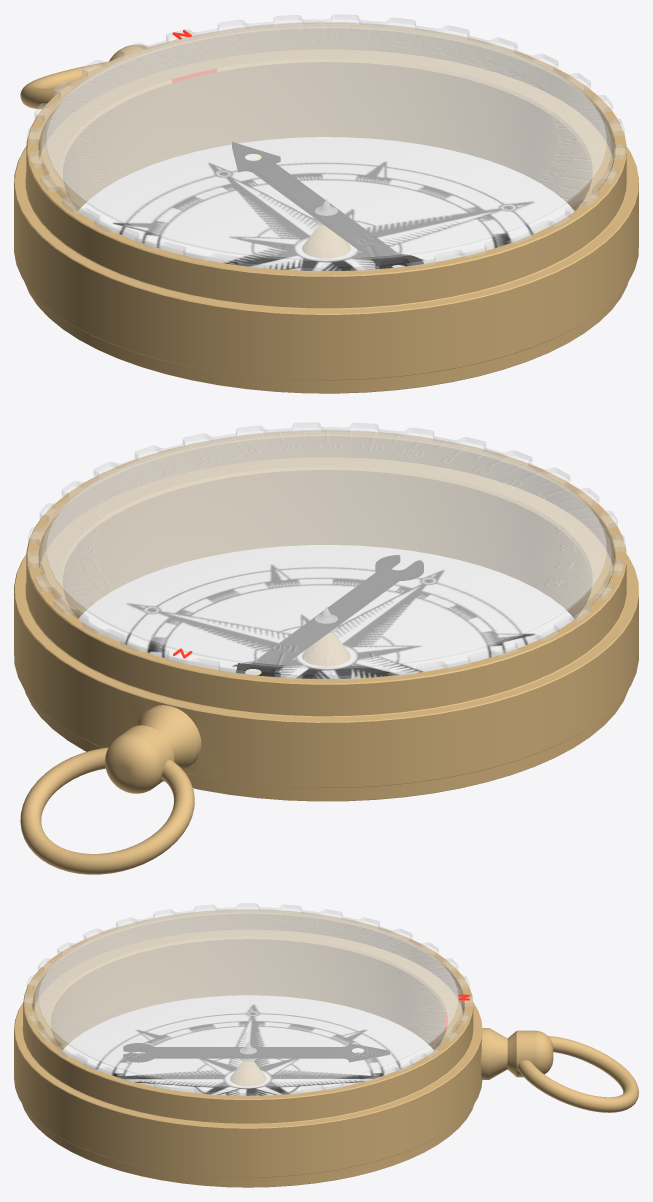
File: compass.glb
The picture shows the model from 3 angles, top to bottom: view 1: azimuth 30°, elevation 25°; view 2: azimuth 150°, elevation 25°; view 3: azimuth 270°, elevation 25°; orthographic projection. The views are drawn at different scales.
Parts seen in each view (by area): view 1: compass housing_1, rotating cylinder_3, needle_4, ring_2; view 2: compass housing_1, rotating cylinder_3, ring_2, needle_4; view 3: compass housing_1, rotating cylinder_3, ring_2, needle_4.
Part boxes in pixels (x1,y1,x2,y2): compass housing_1: (14, 23, 638, 393); rotating cylinder_3: (27, 14, 625, 272); needle_4: (232, 142, 423, 268); ring_2: (20, 62, 107, 109); compass housing_1: (14, 430, 638, 801); rotating cylinder_3: (27, 422, 625, 680); ring_2: (20, 747, 194, 874); needle_4: (236, 555, 423, 676); compass housing_1: (14, 909, 553, 1187); rotating cylinder_3: (24, 903, 472, 1096); ring_2: (517, 1036, 638, 1112); needle_4: (123, 1042, 389, 1062).
Size of the model in its own units: 51.25 by 12.39 by 68.35.
9 materials, 4 textured.
